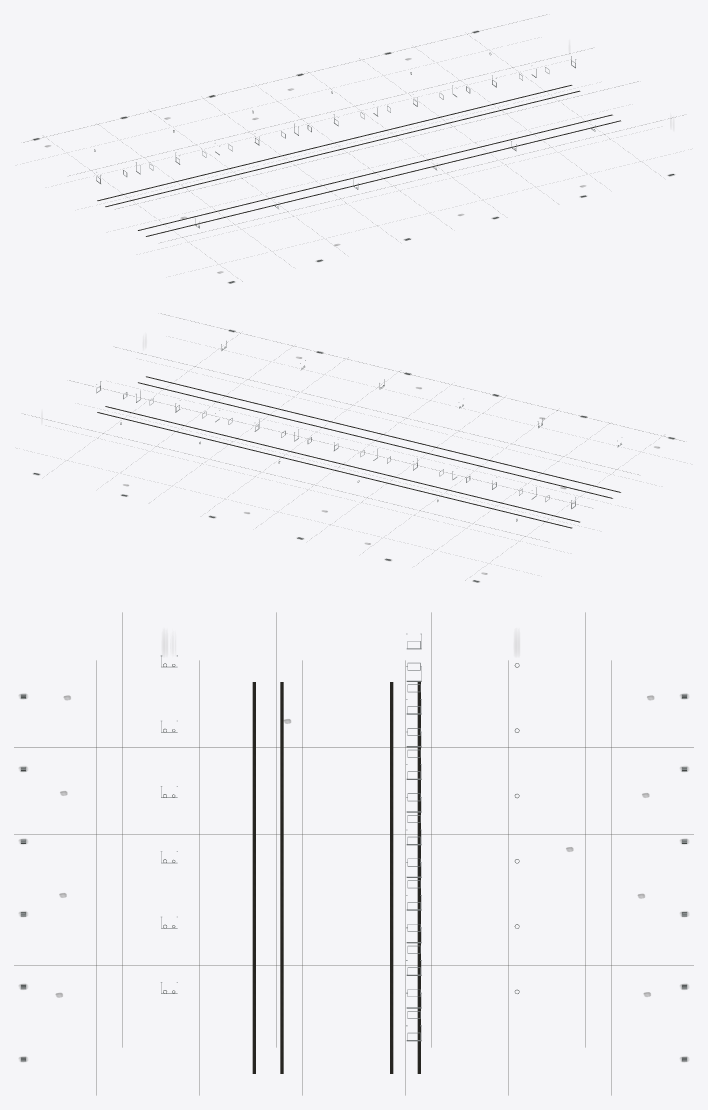
The model's file is architectural_rework.glb.
3 renders of one model, top to bottom at view 1: azimuth 30°, elevation 25°; view 2: azimuth 150°, elevation 25°; view 3: azimuth 270°, elevation 25°, orthographic. The views are drawn at different scales.
Parts seen in each view (by area): view 1: RW_TireLane_0, RW_TireLane_1, RW_TireLane_2, RW_TireLane_3; view 2: RW_TireLane_3, RW_TireLane_2, RW_TireLane_0, RW_TireLane_1; view 3: RW_TireLane_1, RW_TireLane_2, RW_TireLane_3, RW_TireLane_0, RW_FloorJoints_1, RW_FloorJoints_2, RW_FloorJoints_4.
Part boxes in pixels (x1,y1,x2,y2): RW_TireLane_0: (97, 85, 572, 200); RW_TireLane_1: (105, 90, 580, 206); RW_TireLane_2: (138, 114, 612, 230); RW_TireLane_3: (146, 120, 620, 236); RW_TireLane_3: (146, 376, 620, 492); RW_TireLane_2: (138, 382, 612, 498); RW_TireLane_0: (97, 412, 572, 528); RW_TireLane_1: (105, 406, 579, 522); RW_TireLane_1: (390, 682, 393, 1073); RW_TireLane_2: (280, 682, 283, 1073); RW_TireLane_3: (252, 682, 255, 1073); RW_TireLane_0: (417, 682, 420, 1073); RW_FloorJoints_1: (14, 733, 693, 805); RW_FloorJoints_2: (14, 806, 693, 877); RW_FloorJoints_4: (14, 951, 693, 1022).
Size of the model in its own units: 60 by 3.1 by 39.6.
Materials: 8 (4 with a texture image).
